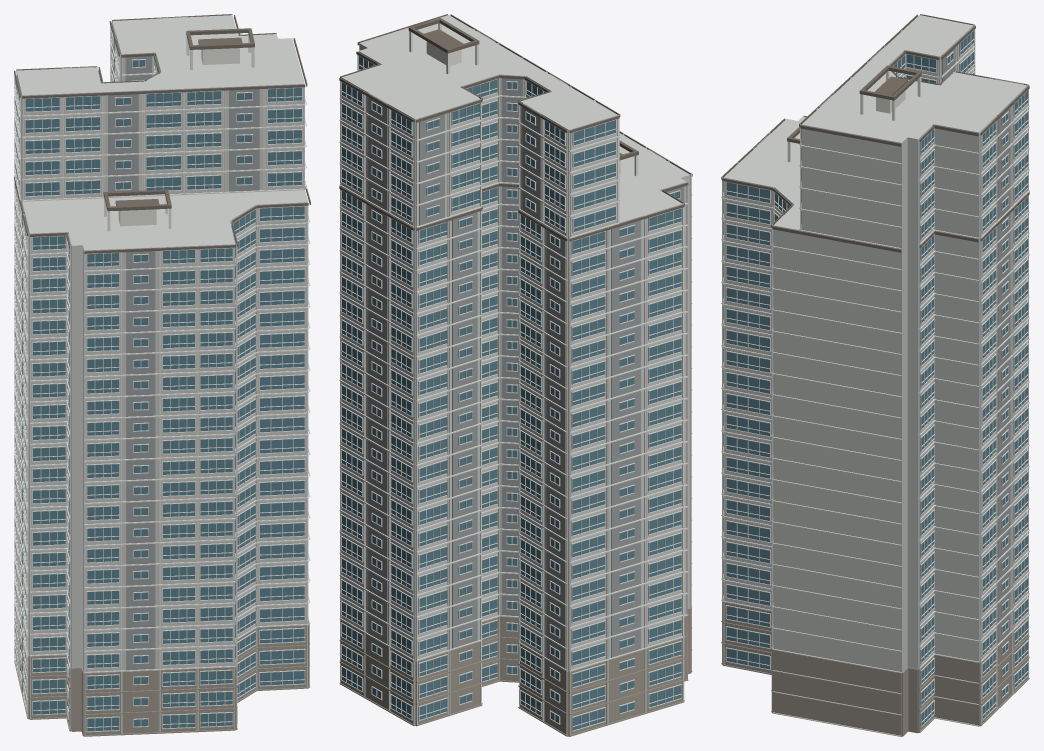
Rendered from bespoke-banpo-xi-117.glb.
The picture shows the model from 3 angles, left to right: view 1: azimuth 30°, elevation 25°; view 2: azimuth 150°, elevation 25°; view 3: azimuth 270°, elevation 25°; orthographic projection. The views are drawn at different scales.
Visible parts, largest first — view 1: BX117_editable_BX117_pale_silver_limestone, BX117_editable_BX117_blue_grey_broad_glazing, BX117_editable_BX117_white_window_frames, BX117_editable_BX117_ivory_course_bands, BX117_editable_BX117_grey_service_core, BX117_editable_BX117_warm_ground_stone, BX117_editable_BX117_dark_coping; view 2: BX117_editable_BX117_blue_grey_broad_glazing, BX117_editable_BX117_pale_silver_limestone, BX117_editable_BX117_white_window_frames, BX117_editable_BX117_grey_service_core, BX117_editable_BX117_ivory_course_bands, BX117_editable_BX117_warm_ground_stone, BX117_editable_BX117_dark_coping; view 3: BX117_editable_BX117_pale_silver_limestone, BX117_editable_BX117_blue_grey_broad_glazing, BX117_editable_BX117_white_window_frames, BX117_editable_BX117_ivory_course_bands, BX117_editable_BX117_warm_ground_stone, BX117_editable_BX117_grey_service_core, BX117_editable_BX117_dark_coping.
Boxes of the visible parts, <box> form: BX117_editable_BX117_pale_silver_limestone: <box>16,15,308,730</box>; BX117_editable_BX117_blue_grey_broad_glazing: <box>15,39,304,731</box>; BX117_editable_BX117_white_window_frames: <box>14,31,305,732</box>; BX117_editable_BX117_ivory_course_bands: <box>14,14,310,735</box>; BX117_editable_BX117_grey_service_core: <box>20,17,259,670</box>; BX117_editable_BX117_warm_ground_stone: <box>14,618,309,736</box>; BX117_editable_BX117_dark_coping: <box>14,14,310,253</box>; BX117_editable_BX117_blue_grey_broad_glazing: <box>342,56,680,730</box>; BX117_editable_BX117_pale_silver_limestone: <box>341,15,690,725</box>; BX117_editable_BX117_white_window_frames: <box>340,55,681,731</box>; BX117_editable_BX117_grey_service_core: <box>368,30,684,668</box>; BX117_editable_BX117_ivory_course_bands: <box>339,14,692,736</box>; BX117_editable_BX117_warm_ground_stone: <box>339,607,692,736</box>; BX117_editable_BX117_dark_coping: <box>339,14,692,241</box>; BX117_editable_BX117_pale_silver_limestone: <box>723,15,1027,736</box>; BX117_editable_BX117_blue_grey_broad_glazing: <box>723,31,1027,726</box>; BX117_editable_BX117_white_window_frames: <box>723,29,1028,727</box>; BX117_editable_BX117_ivory_course_bands: <box>721,15,1029,736</box>; BX117_editable_BX117_warm_ground_stone: <box>721,601,1029,736</box>; BX117_editable_BX117_grey_service_core: <box>756,43,1023,643</box>; BX117_editable_BX117_dark_coping: <box>721,14,1029,252</box>.
Size of the model in its own units: 39.16 by 78.5 by 35.58.
